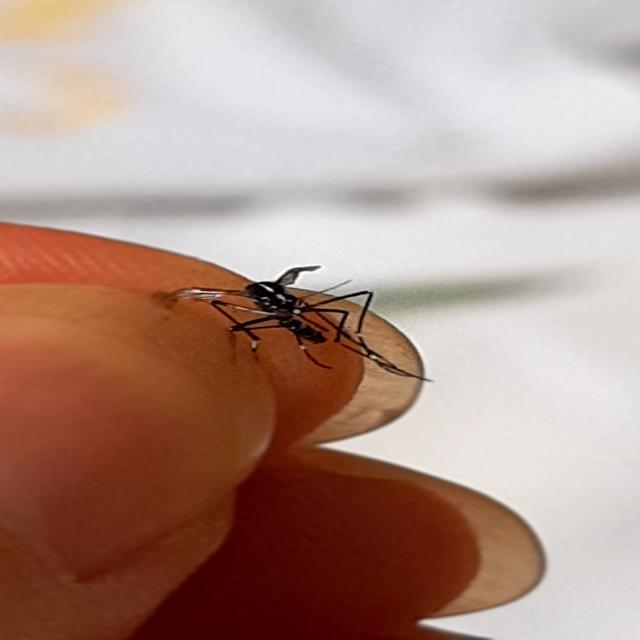albopictus: (142, 254, 428, 382)
